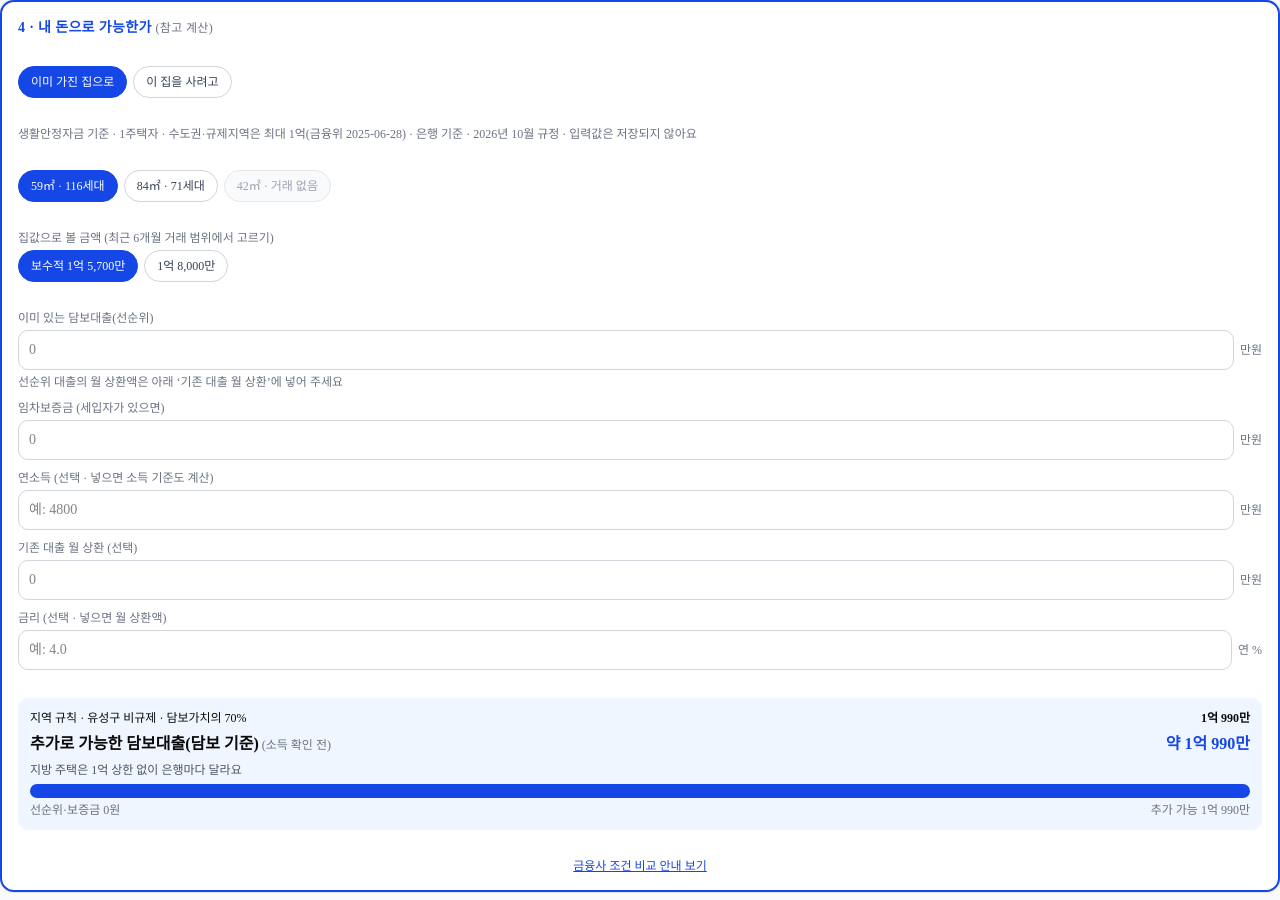
Scenario: LoanEstimateSection — 이미 가진 집(기본) › 높은 쪽 집값을 고르면 그 값으로
Click the button "1억 8,000만".
click(186, 266)  # box x1=144 y1=250 x2=228 y2=282
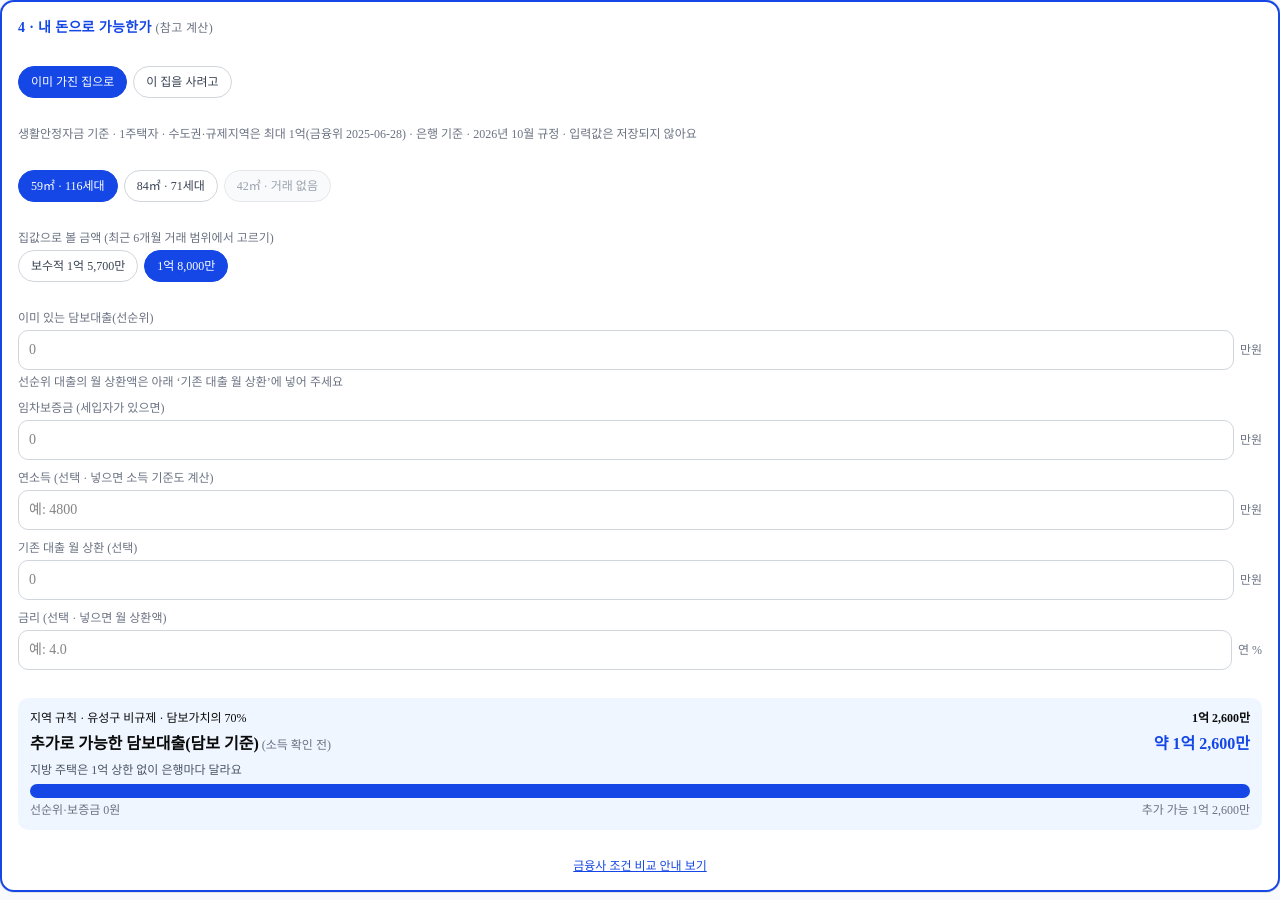
Check: the element with test id "consumer-loan-result" shows "1억 2,600만", box x1=1192 y1=711 x2=1250 y2=725
